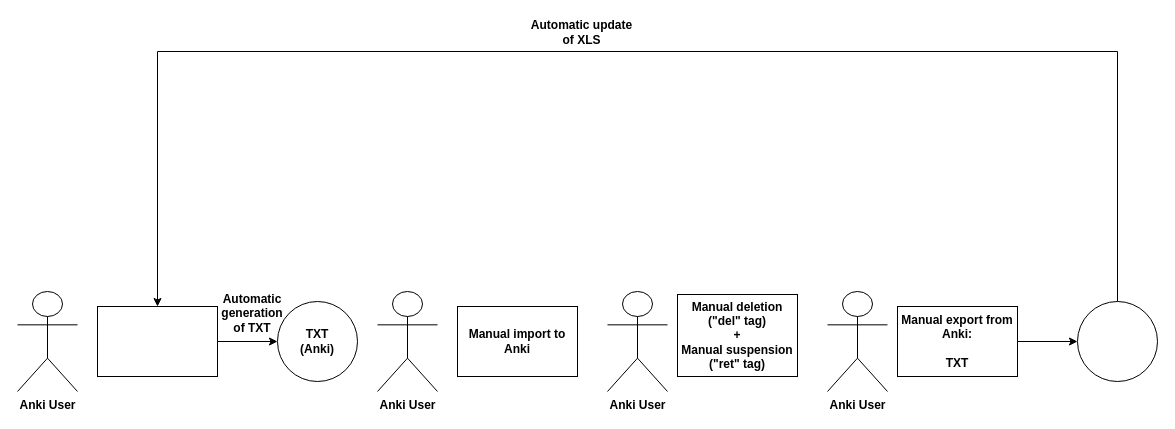
Some shapes in this 1175 by 429 pixel diagram are drawn without their labels. The centre of each missing label's shape, as x and y in pixels:
TXT (Anki export): the point at 1117,341
Update of vocab. list (XLS) CTRL+S: the point at 157,341
